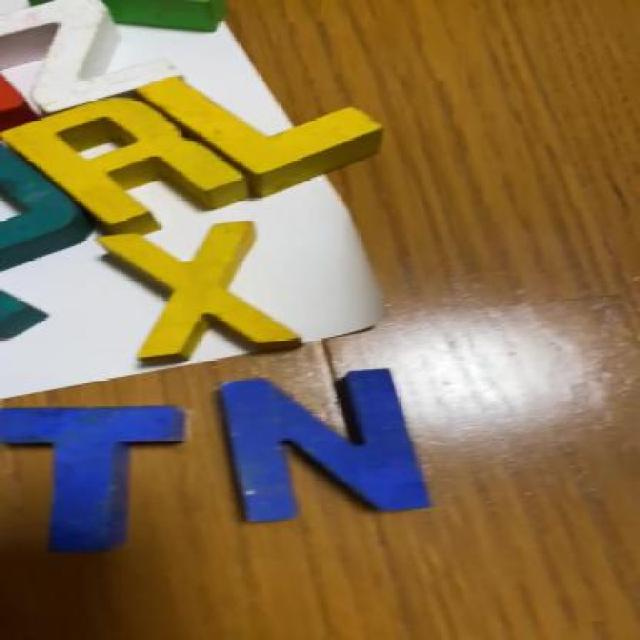L: (132, 76, 396, 202)
N: (232, 372, 434, 520)
R: (27, 103, 247, 231)
T: (0, 400, 189, 555)
X: (116, 224, 282, 370)
